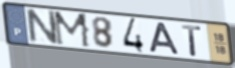4: (121, 16, 148, 55)
8: (90, 16, 115, 49)
A: (148, 21, 181, 56)
M: (52, 10, 92, 49)
N: (24, 8, 61, 46)
T: (180, 23, 203, 58)
